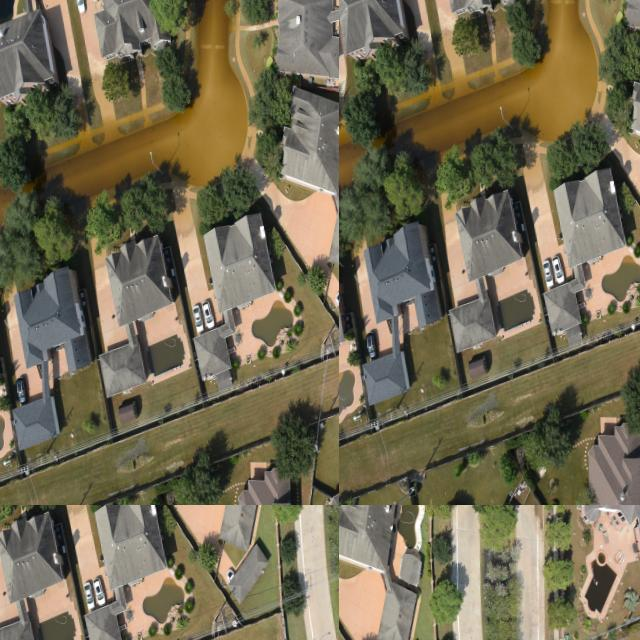fire: (339, 328, 436, 452), (339, 23, 385, 131), (441, 418, 495, 505), (593, 0, 640, 86), (339, 279, 374, 321)
